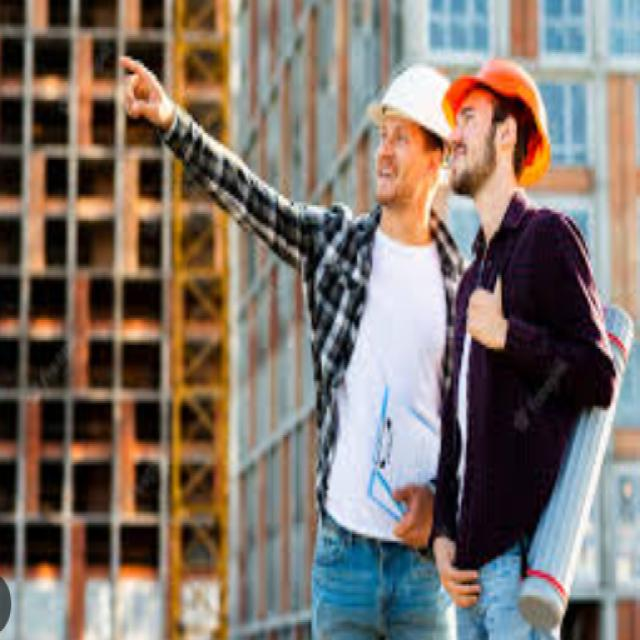hard_hat: (438, 54, 556, 208), (359, 59, 466, 223)
